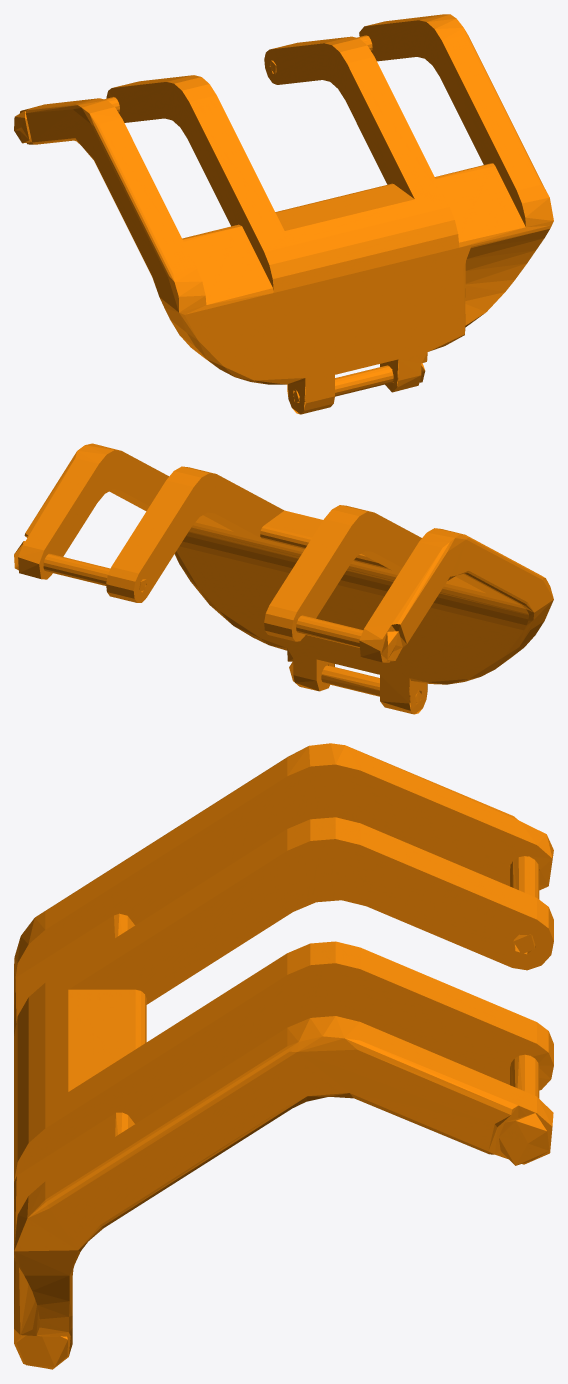
Rendered from inner_double.dae.
3 views of the same model, one above another, from view 1: azimuth 30°, elevation 25°; view 2: azimuth 150°, elevation 25°; view 3: azimuth 270°, elevation 25° (orthographic). The views are drawn at different scales.
Visible parts, largest first — view 1: node; view 2: node; view 3: node.
Boxes of the visible parts, x1,y1,x2,y2 form: node: (14, 14, 553, 414); node: (14, 443, 553, 714); node: (14, 743, 553, 1369).
Bounding box in the file's own units: 0.095 × 0.0656 × 0.0735.
1 material, 1 textured.
